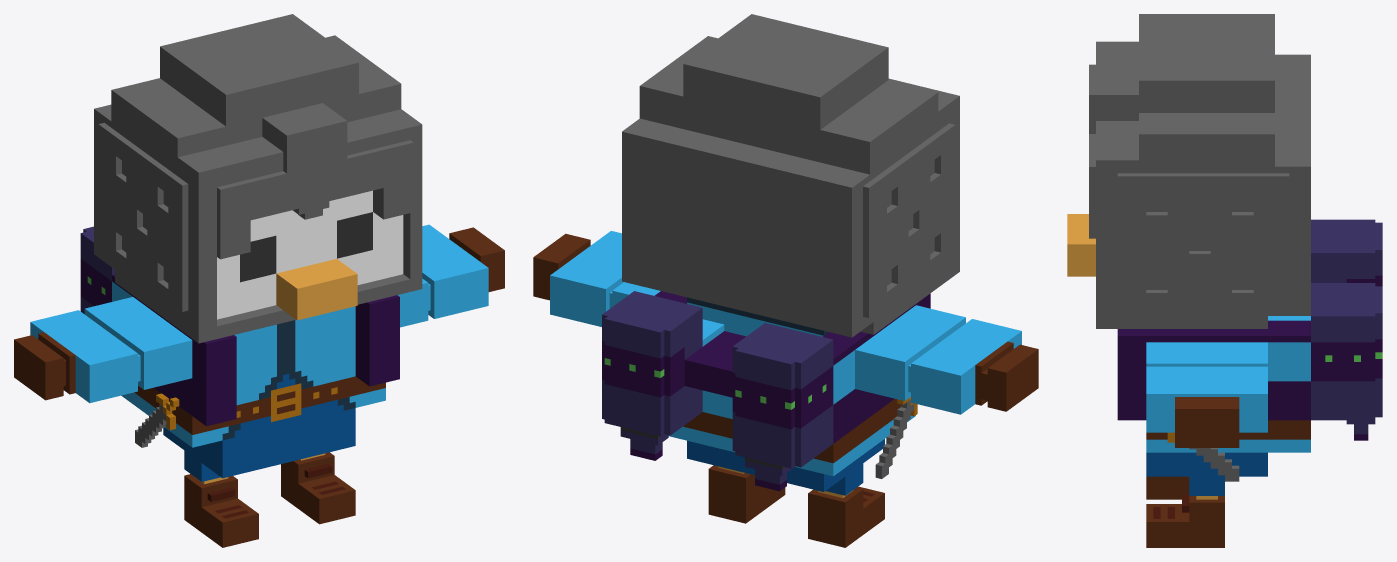
The model's file is pinguiarmor.fbx.
3 views of the same model, side by side, from view 1: azimuth 30°, elevation 25°; view 2: azimuth 150°, elevation 25°; view 3: azimuth 270°, elevation 25° (orthographic). The views are drawn at different scales.
Visible parts, largest first — view 1: pinguiArmor:pinguiArmor; view 2: pinguiArmor:pinguiArmor; view 3: pinguiArmor:pinguiArmor.
Boxes of the visible parts, left/top/right/bottom form: pinguiArmor:pinguiArmor: left=14, top=14, right=504, bottom=547; pinguiArmor:pinguiArmor: left=533, top=14, right=1038, bottom=547; pinguiArmor:pinguiArmor: left=1067, top=14, right=1382, bottom=547.
Size of the model in its own units: 76 by 72 by 44.
Materials: 1 (1 with a texture image).
